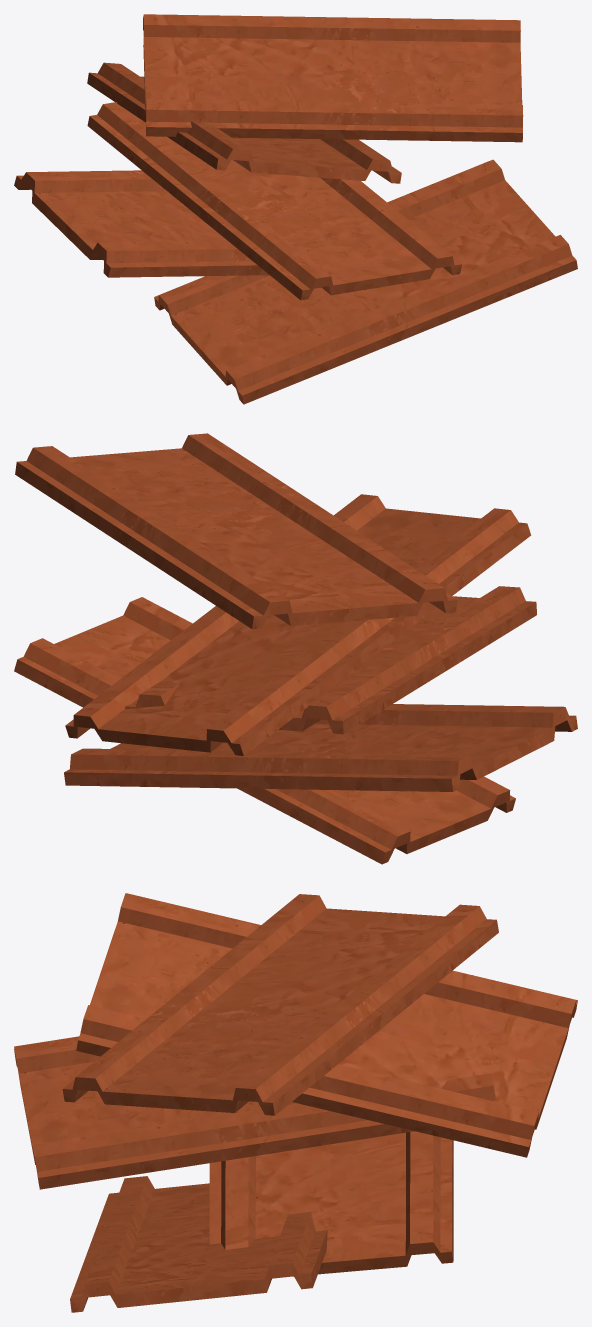
Rendered from COB-CER-004_anim.glb.
3 views of the same model, one above another, from view 1: azimuth 30°, elevation 25°; view 2: azimuth 150°, elevation 25°; view 3: azimuth 270°, elevation 25° (orthographic). The views are drawn at different scales.
Parts seen in each view (by area): view 1: COB-CER-004_anim4, COB-CER-004_anim0, COB-CER-004_anim2, COB-CER-004_anim1, COB-CER-004_anim3; view 2: COB-CER-004_anim4, COB-CER-004_anim3, COB-CER-004_anim1, COB-CER-004_anim0, COB-CER-004_anim2; view 3: COB-CER-004_anim4, COB-CER-004_anim3, COB-CER-004_anim1, COB-CER-004_anim2, COB-CER-004_anim0.
Boxes of the visible parts, left/top/right/bottom form: COB-CER-004_anim4: left=143, top=14, right=523, bottom=142; COB-CER-004_anim0: left=154, top=159, right=577, bottom=404; COB-CER-004_anim2: left=87, top=102, right=461, bottom=300; COB-CER-004_anim1: left=14, top=170, right=269, bottom=277; COB-CER-004_anim3: left=87, top=62, right=401, bottom=183; COB-CER-004_anim4: left=15, top=433, right=457, bottom=629; COB-CER-004_anim3: left=65, top=494, right=531, bottom=755; COB-CER-004_anim1: left=64, top=704, right=577, bottom=791; COB-CER-004_anim0: left=14, top=597, right=515, bottom=864; COB-CER-004_anim2: left=125, top=586, right=536, bottom=734; COB-CER-004_anim4: left=62, top=894, right=498, bottom=1115; COB-CER-004_anim3: left=76, top=893, right=577, bottom=1157; COB-CER-004_anim1: left=209, top=1131, right=453, bottom=1276; COB-CER-004_anim2: left=14, top=975, right=496, bottom=1189; COB-CER-004_anim0: left=70, top=1176, right=327, bottom=1312.
Bounding box in the file's own units: 0.5356 × 0.3145 × 0.4856.
Materials: 1 (1 with a texture image).
